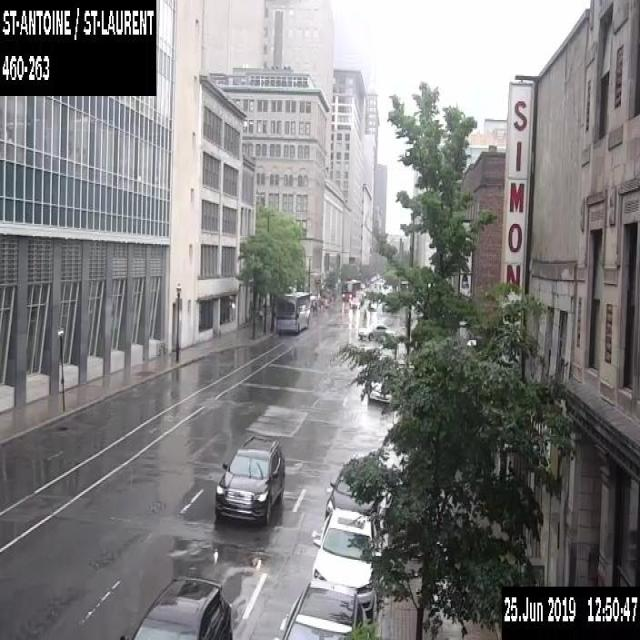bus: (275, 290, 310, 333), (341, 278, 360, 300)
vehicle: (310, 506, 380, 624), (118, 573, 232, 639), (214, 435, 284, 525), (280, 578, 367, 639), (325, 466, 383, 526), (357, 322, 395, 340), (368, 379, 392, 403), (349, 296, 360, 308), (355, 290, 364, 303), (382, 301, 389, 311)
